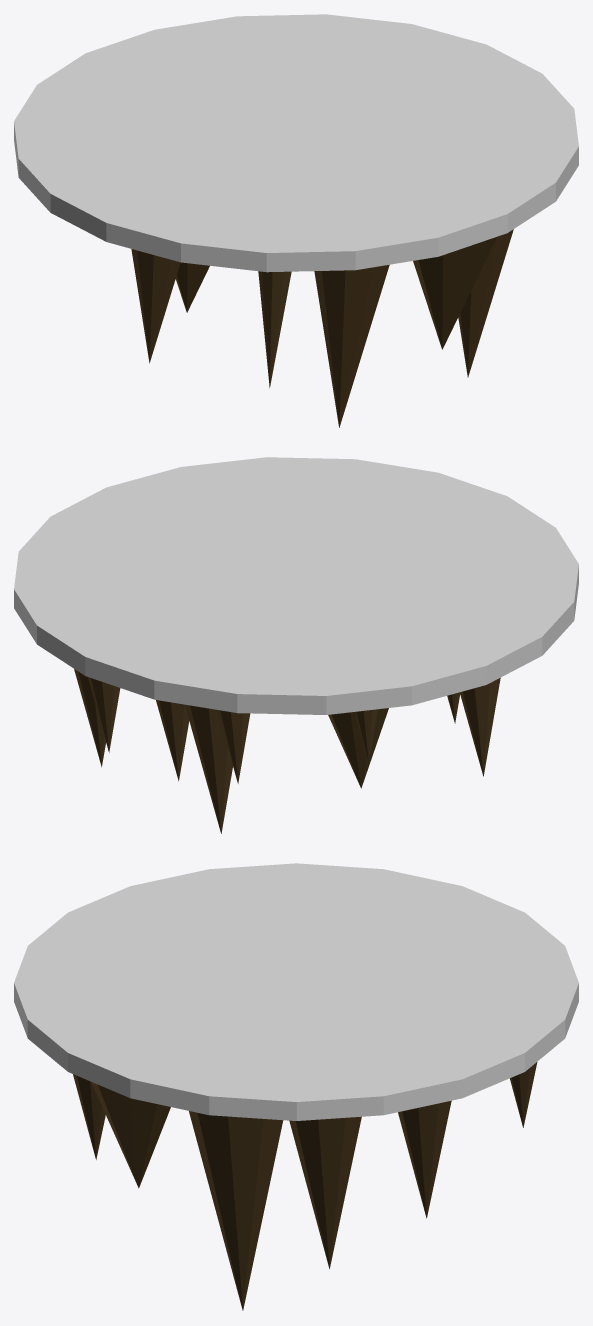
File: Platform.fbx
3 renders of one model, top to bottom at view 1: azimuth 30°, elevation 25°; view 2: azimuth 150°, elevation 25°; view 3: azimuth 270°, elevation 25°, orthographic.
Visible parts, largest first — view 1: Platform; view 2: Platform; view 3: Platform.
Boxes of the visible parts, left/top/right/bottom form: Platform: left=14, top=14, right=578, bottom=427; Platform: left=14, top=457, right=578, bottom=833; Platform: left=14, top=863, right=578, bottom=1310.
Size of the model in its own units: 2651 by 1340 by 2651.
